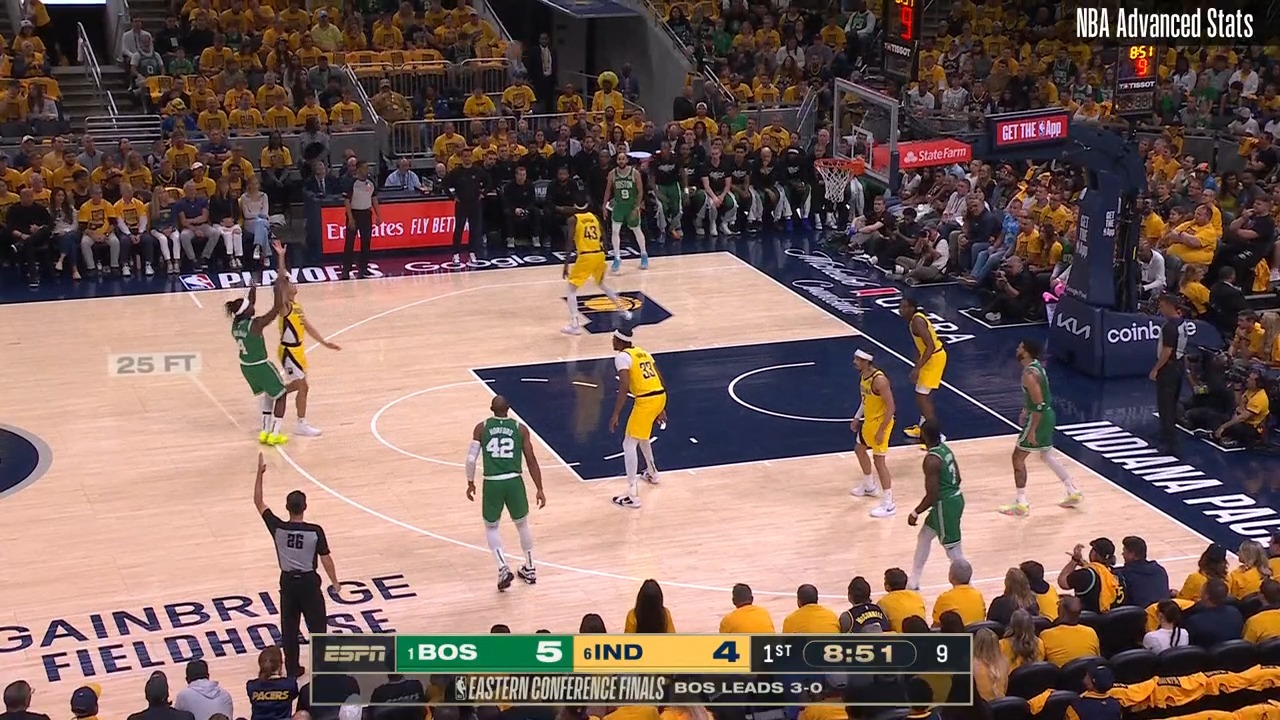basketball: (503, 38, 528, 64)
